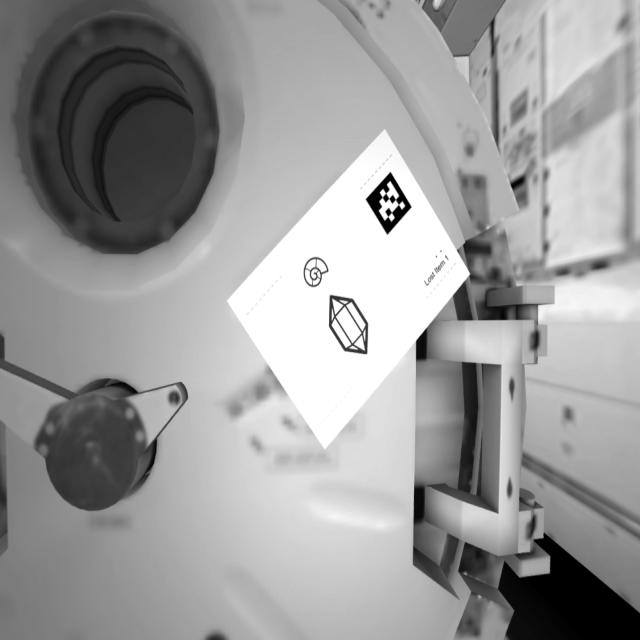crystal: (324, 294, 384, 369)
fossil: (299, 256, 335, 286)
